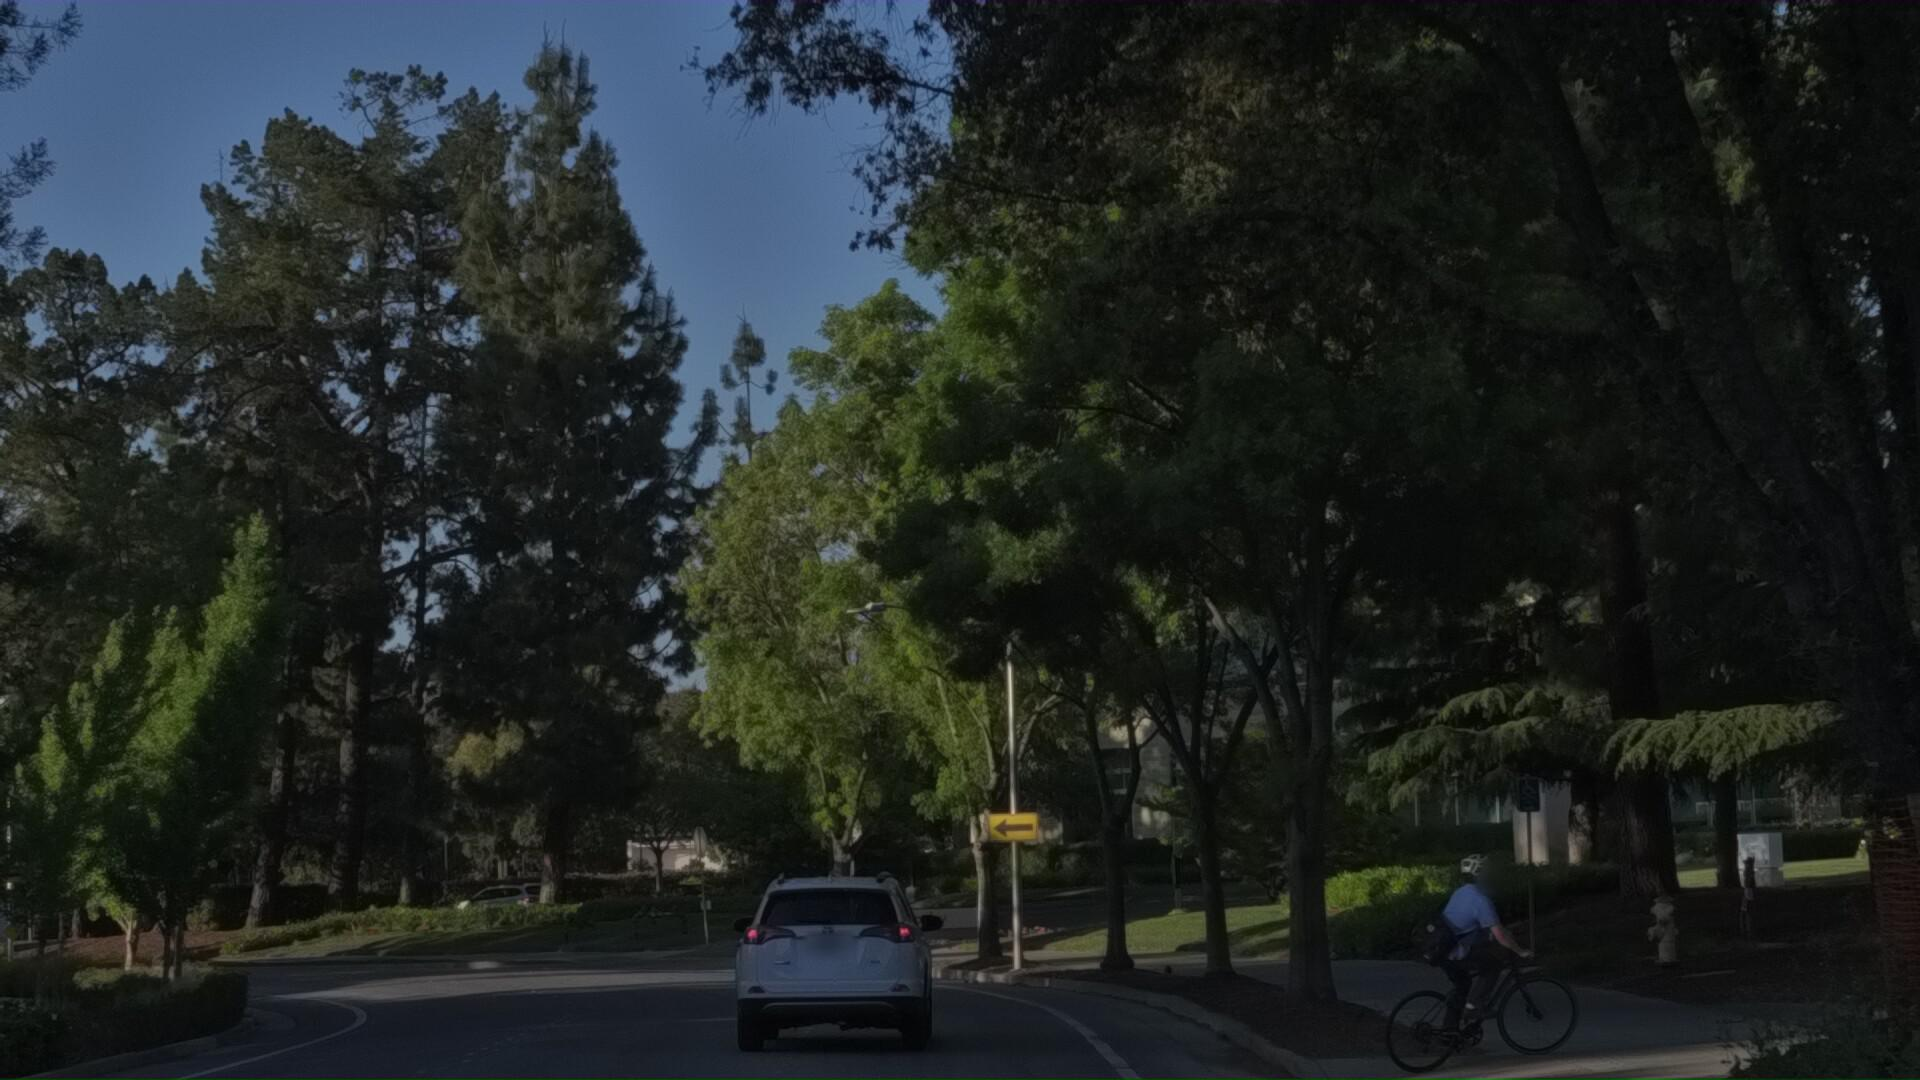bicycle: (1333, 920, 1644, 1080)
car: (711, 942, 942, 1080)
